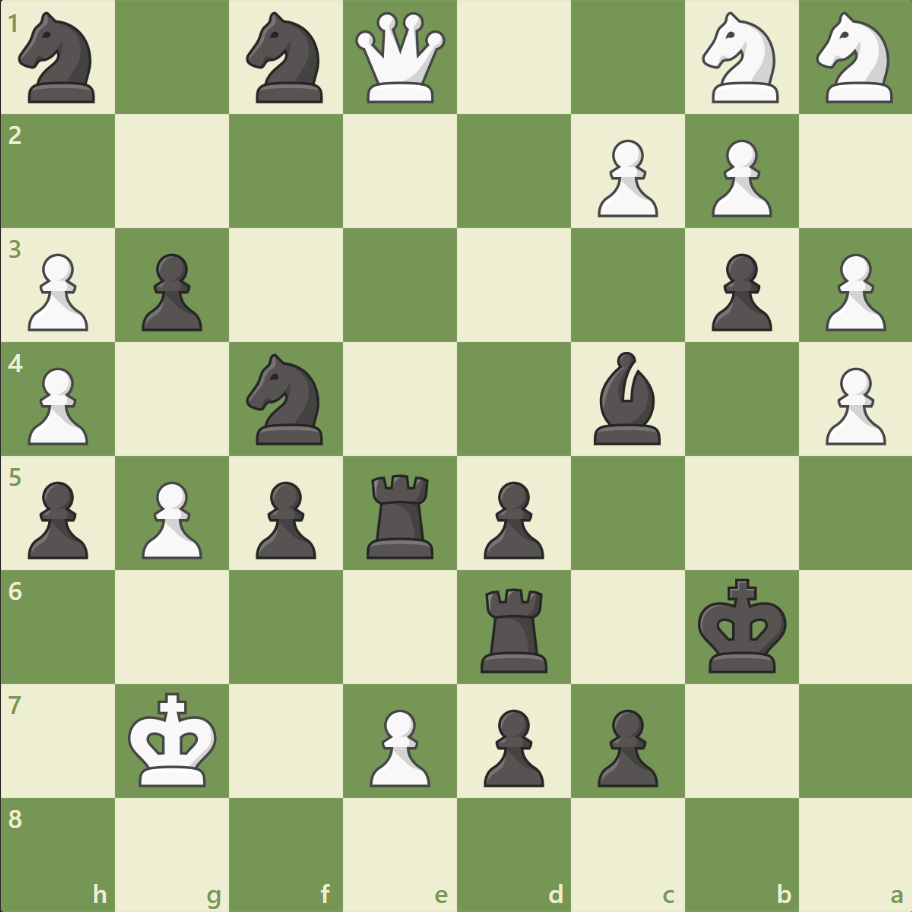K: (124, 685, 224, 793)
N: (806, 7, 903, 110), (692, 7, 789, 110)
P: (133, 473, 208, 564), (20, 359, 95, 450), (20, 246, 95, 337), (701, 132, 776, 223), (361, 700, 435, 791), (815, 359, 889, 450), (815, 246, 889, 337), (588, 132, 662, 223)
Q: (351, 9, 450, 108)
b: (585, 347, 669, 449)
k: (692, 571, 792, 679)
n: (238, 7, 335, 110), (11, 7, 108, 110), (238, 348, 335, 450)
p: (474, 700, 549, 791), (474, 473, 549, 564), (247, 473, 322, 564), (20, 473, 95, 564), (701, 246, 776, 337), (133, 246, 208, 337), (588, 700, 662, 791)
r: (473, 579, 556, 676), (360, 466, 442, 563)
